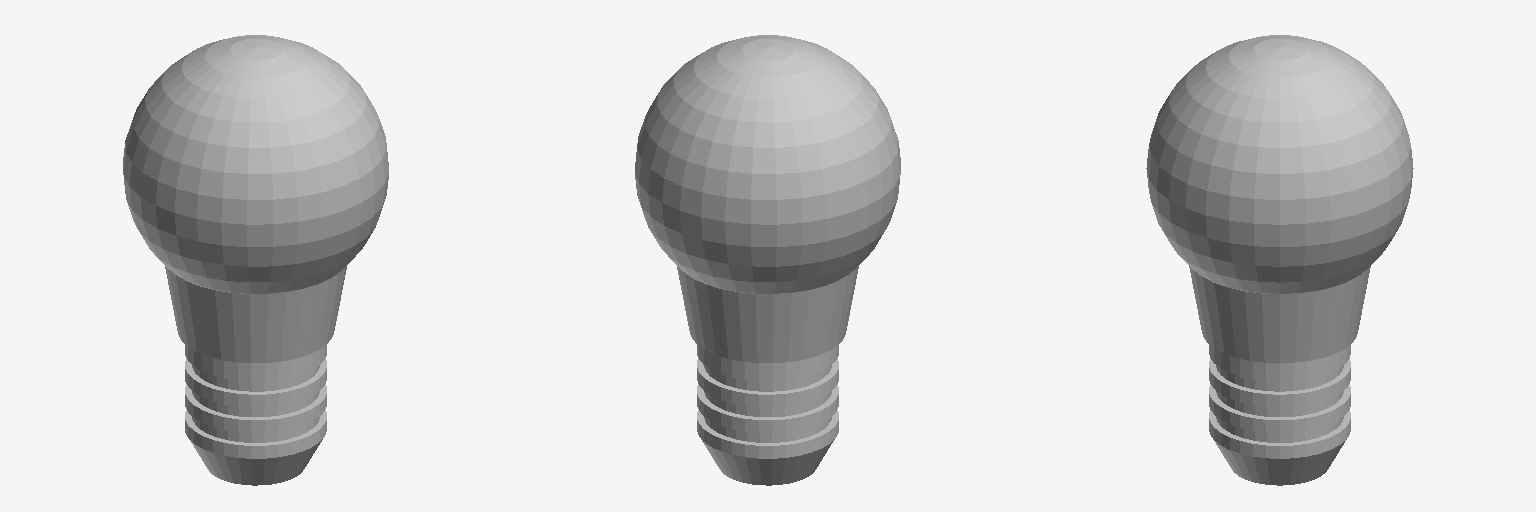
The model's file is LED lightbulb.obj.
The picture shows the model from 3 angles: view 1: azimuth 30°, elevation 25°; view 2: azimuth 150°, elevation 25°; view 3: azimuth 270°, elevation 25°; orthographic projection.
Visible parts, largest first — view 1: Sphere, Cylinder.001, Cylinder.002, Cylinder; view 2: Sphere, Cylinder.001, Cylinder.002, Cylinder; view 3: Sphere, Cylinder.001, Cylinder.002, Cylinder.
Boxes of the visible parts, <box> form: Sphere: <box>123,35,388,293</box>; Cylinder.001: <box>185,345,326,458</box>; Cylinder.002: <box>165,266,346,368</box>; Cylinder: <box>189,439,322,485</box>; Sphere: <box>635,35,900,293</box>; Cylinder.001: <box>697,345,838,458</box>; Cylinder.002: <box>677,266,858,368</box>; Cylinder: <box>701,439,834,485</box>; Sphere: <box>1146,35,1413,293</box>; Cylinder.001: <box>1209,345,1350,458</box>; Cylinder.002: <box>1189,266,1370,368</box>; Cylinder: <box>1213,439,1346,485</box>.
Bounding box in the file's own units: 2.7 × 4.65 × 2.7.